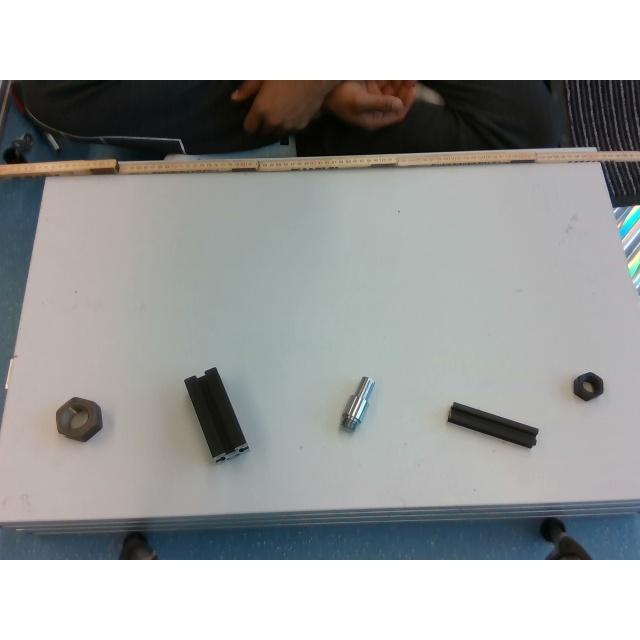Axis2: (341, 376, 375, 432)
F20_20_B: (448, 402, 538, 448)
M20: (573, 372, 603, 401)
M30: (56, 397, 102, 441)
S40_40_B: (184, 366, 248, 462)
